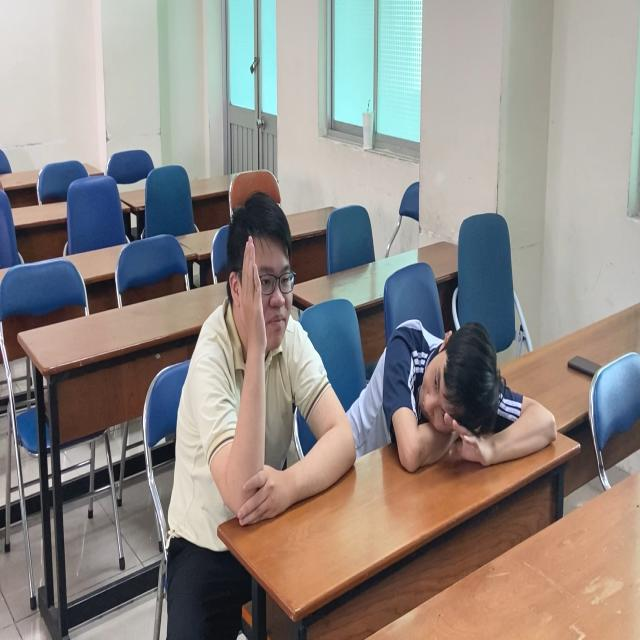raise_hand: (189, 178, 323, 532)
sleep: (354, 307, 563, 489)
